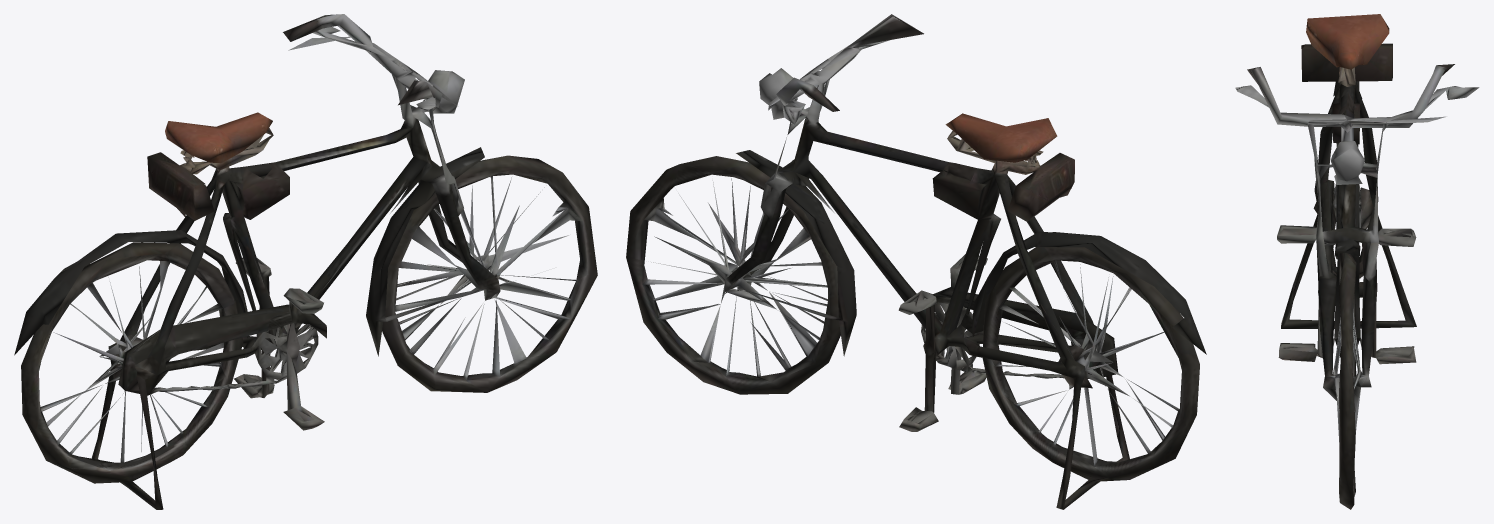
Rendered from bicycle_1900.glb.
3 views of the same model, side by side, from view 1: azimuth 30°, elevation 25°; view 2: azimuth 150°, elevation 25°; view 3: azimuth 270°, elevation 25° (orthographic).
Parts seen in each view (by area): view 1: tripo_node_7d313446-fa34-4e48-bc88-81c2ad00d861; view 2: tripo_node_7d313446-fa34-4e48-bc88-81c2ad00d861; view 3: tripo_node_7d313446-fa34-4e48-bc88-81c2ad00d861.
Part boxes in pixels (x1,y1,x2,y2): tripo_node_7d313446-fa34-4e48-bc88-81c2ad00d861: (14,14,597,509); tripo_node_7d313446-fa34-4e48-bc88-81c2ad00d861: (626,14,1206,509); tripo_node_7d313446-fa34-4e48-bc88-81c2ad00d861: (1235,14,1479,509).
Size of the model in its own units: 0.9817 by 0.6119 by 0.3554.
Materials: 1 (1 with a texture image).
